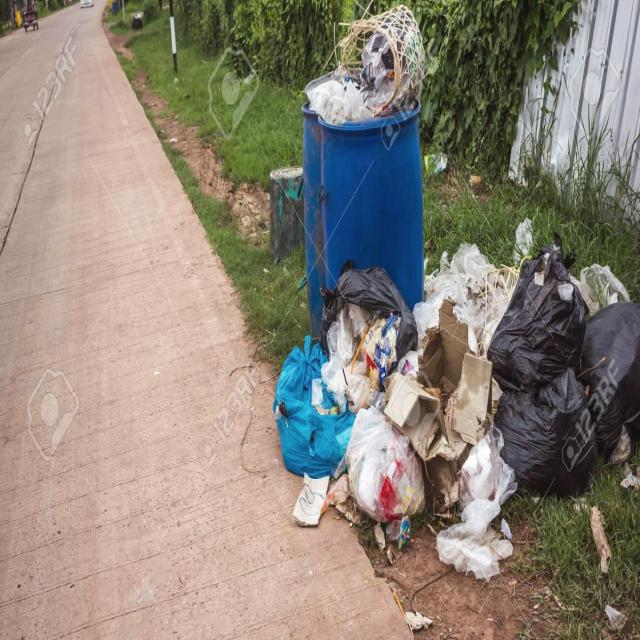garbage: (274, 249, 640, 609), (303, 4, 433, 140)
